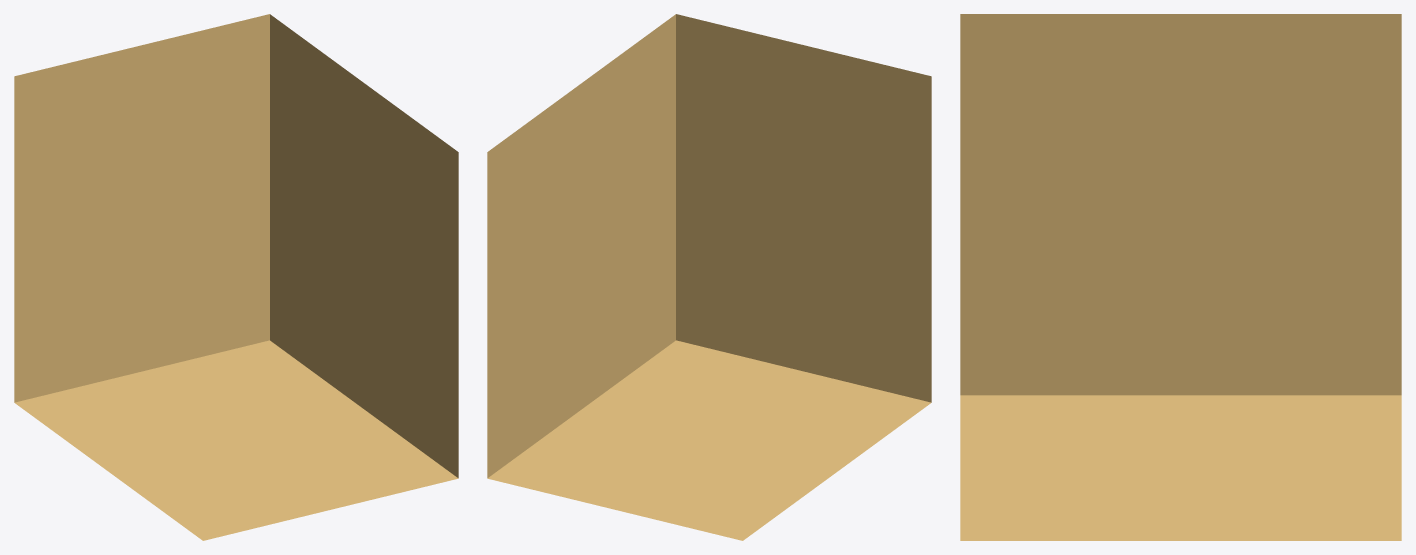
The model's file is vr-walkthrough-mystic-forest-017.glb.
3 views of the same model, side by side, from view 1: azimuth 30°, elevation 25°; view 2: azimuth 150°, elevation 25°; view 3: azimuth 270°, elevation 25° (orthographic). The views are drawn at different scales.
Visible parts, largest first — view 1: Mystic Forest VR Walkthrough; view 2: Mystic Forest VR Walkthrough; view 3: Mystic Forest VR Walkthrough.
Boxes of the visible parts, <box> form: Mystic Forest VR Walkthrough: <box>14,14,458,540</box>; Mystic Forest VR Walkthrough: <box>487,14,931,540</box>; Mystic Forest VR Walkthrough: <box>960,14,1401,540</box>.
Bounding box in the file's own units: 1 × 1.22 × 1.28.
